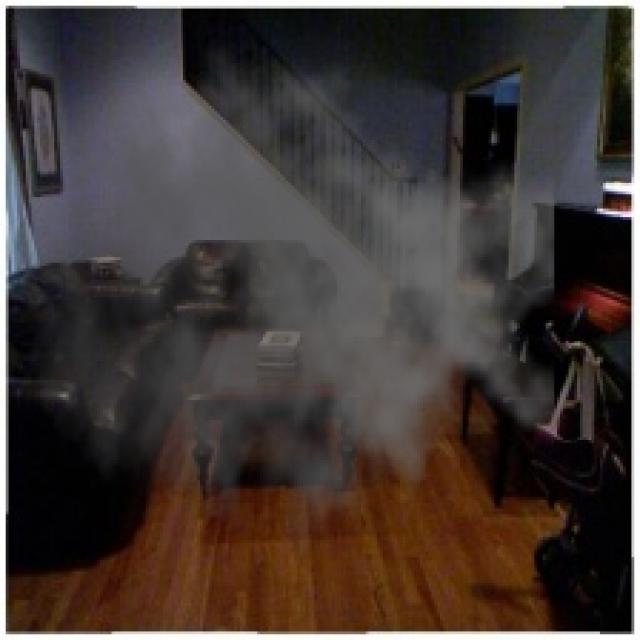smoke: (26, 40, 554, 580)
